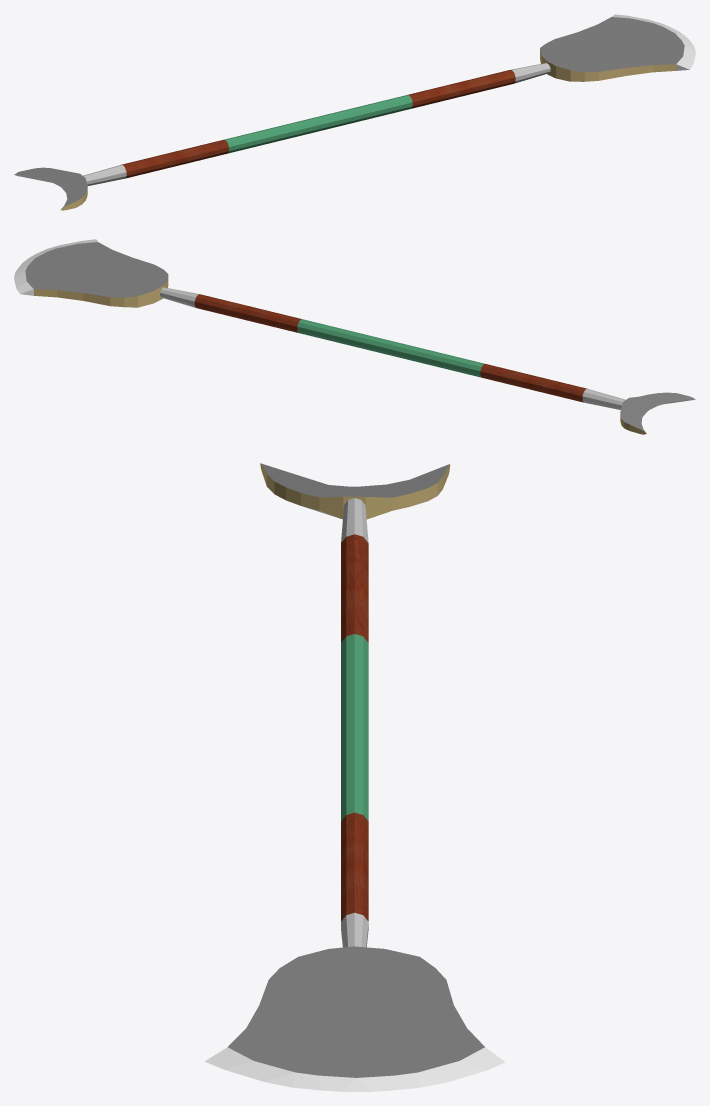
The model's file is WorldItem_ShaolinSpade.fbx.
3 renders of one model, top to bottom at view 1: azimuth 30°, elevation 25°; view 2: azimuth 150°, elevation 25°; view 3: azimuth 270°, elevation 25°, orthographic. The views are drawn at different scales.
Visible parts, largest first — view 1: ZomboidShaolinSpade; view 2: ZomboidShaolinSpade; view 3: ZomboidShaolinSpade.
Boxes of the visible parts, x1,y1,x2,y2 form: ZomboidShaolinSpade: (14,14,695,210); ZomboidShaolinSpade: (14,239,695,434); ZomboidShaolinSpade: (204,463,505,1091).
Bounding box in the file's own units: 1.04 × 0.0206 × 0.2101.
